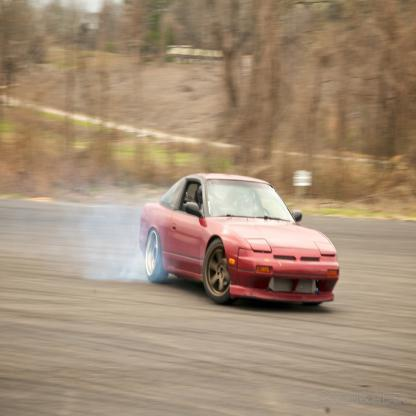Car: (138, 172, 340, 305)
